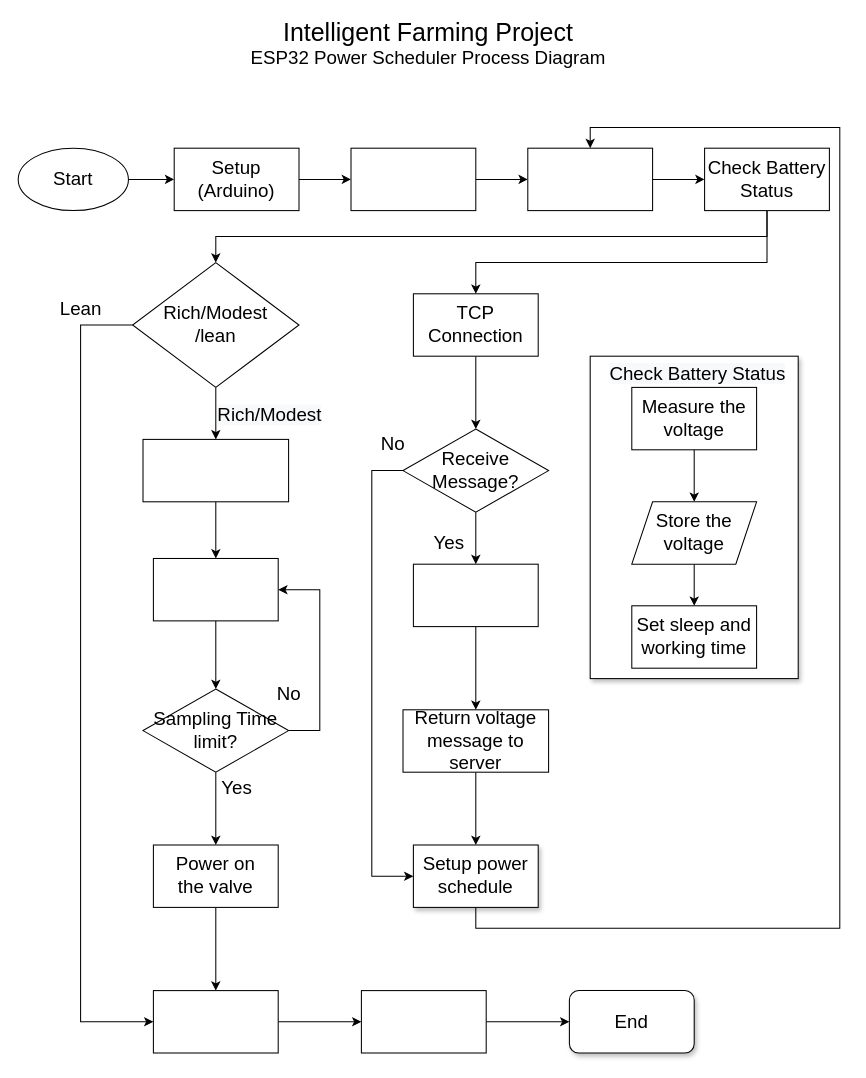
This 866x1078 diagram has some shape labels left out. The shapes that lost their labels are listed below. From the top down, each one's centre as x and y in pixels, then its label:
At (x=413, y=179): "Connect WiFi".
At (x=590, y=179): "Loop (Arduino)".
At (x=215, y=470): "Power on the pump & Sensors".
At (x=215, y=589): "Scheduler".
At (x=475, y=595): "Change Power schedule".
At (x=215, y=1021): "Close the sensors".
At (x=423, y=1021): "Sleep".
